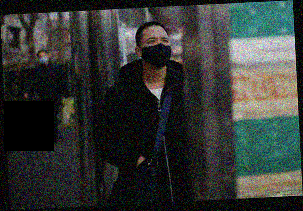with_mask: (142, 34, 173, 68), (38, 53, 50, 65)
